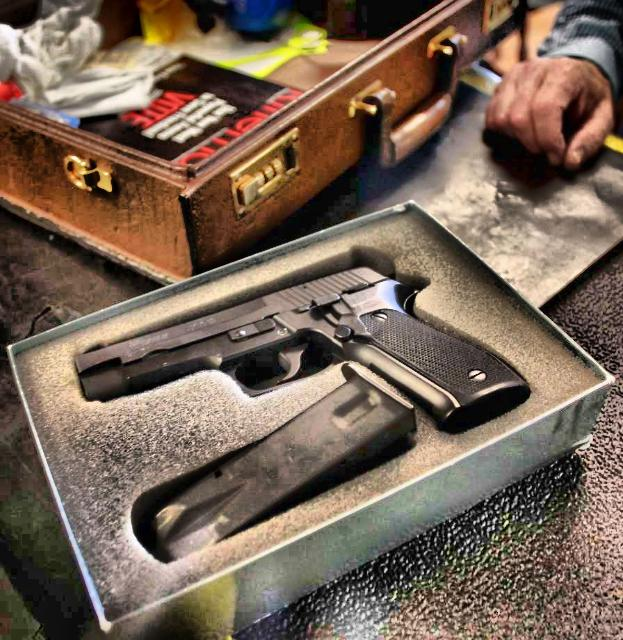pistol: (78, 261, 526, 434)
